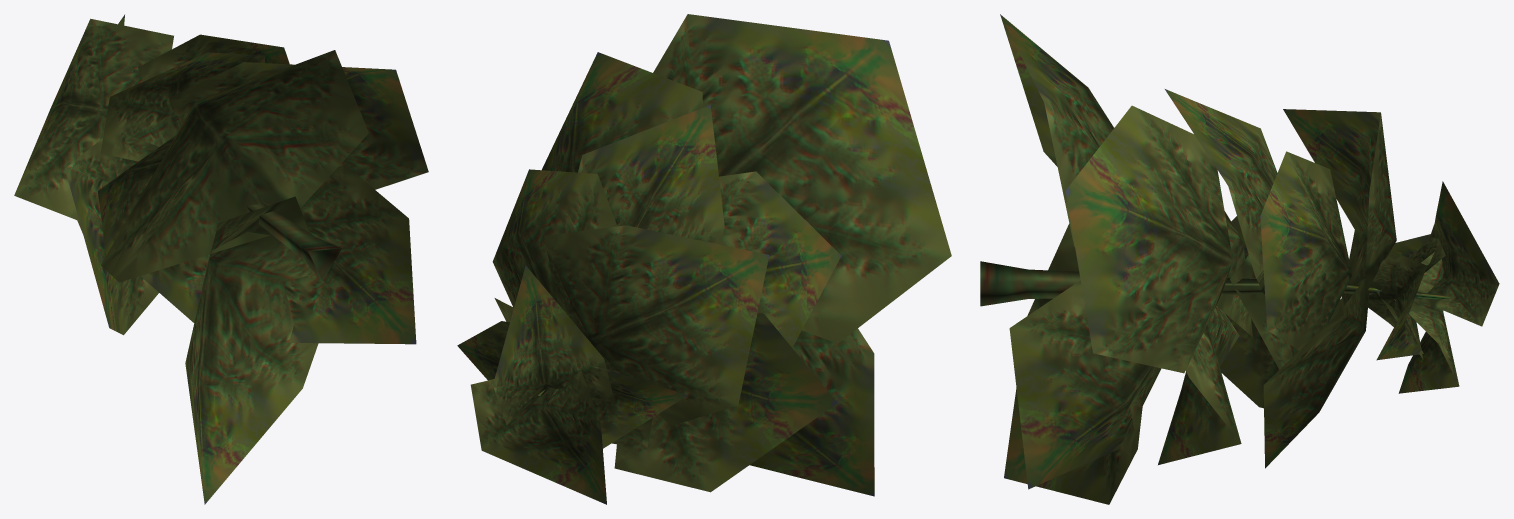
Rendered from Hogweed_Big_A_vcta.fbx.
3 renders of one model, left to right at view 1: azimuth 30°, elevation 25°; view 2: azimuth 150°, elevation 25°; view 3: azimuth 270°, elevation 25°, orthographic. The views are drawn at different scales.
Visible parts, largest first — view 1: Hogweed_Big_A; view 2: Hogweed_Big_A; view 3: Hogweed_Big_A.
Boxes of the visible parts, <box> form: Hogweed_Big_A: <box>14,14,428,504</box>; Hogweed_Big_A: <box>457,14,951,504</box>; Hogweed_Big_A: <box>980,14,1499,504</box>.
Size of the model in its own units: 3.68 by 4.08 by 4.19.
